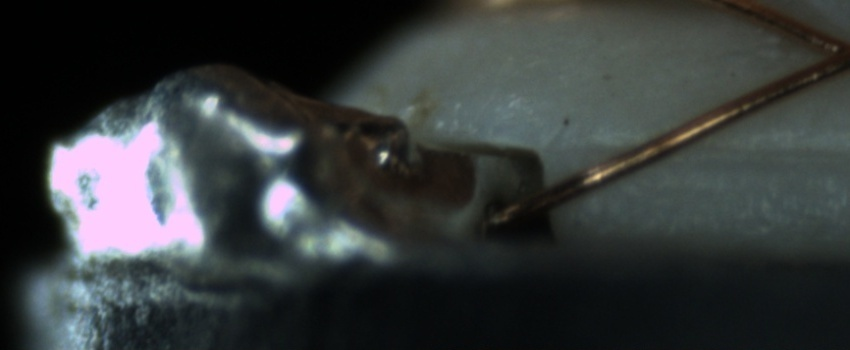CL: (796, 14, 850, 84)
DL: (608, 116, 847, 185)
